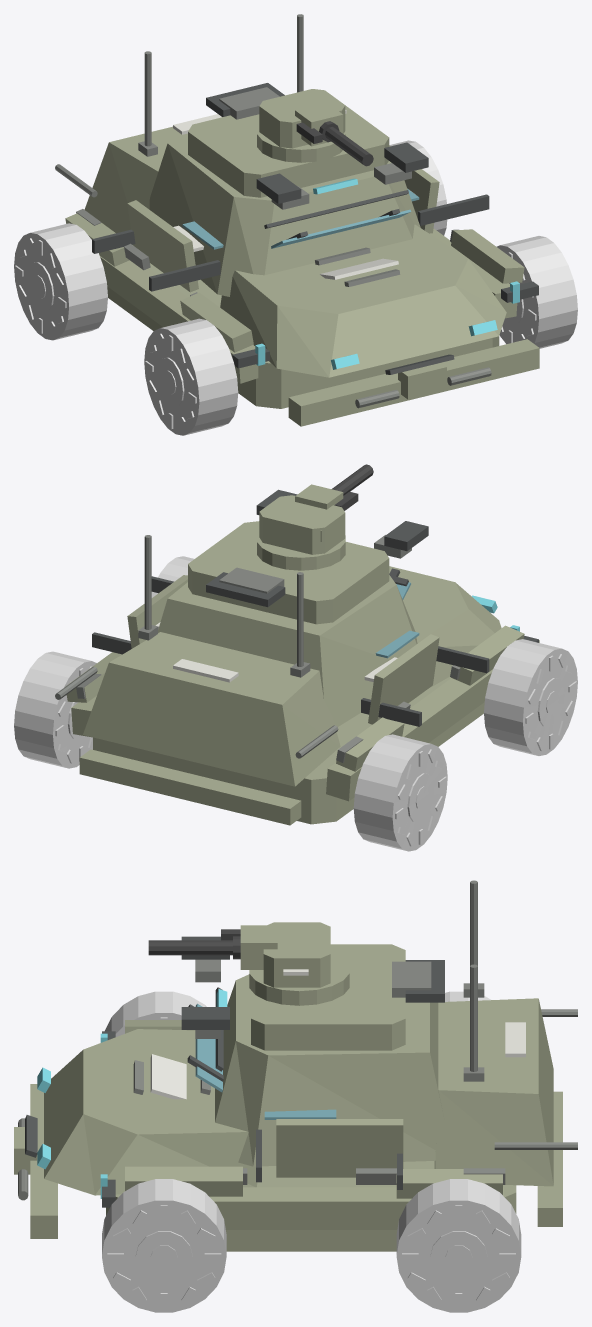
The model's file is scout_rover_articulated.glb.
The picture shows the model from 3 angles, top to bottom: view 1: azimuth 30°, elevation 25°; view 2: azimuth 150°, elevation 25°; view 3: azimuth 270°, elevation 25°; orthographic projection. The views are drawn at different scales.
Visible parts, largest first — view 1: hull, wheel_left, dark_panel_details, wheel_right, bolts_details, turret, emissive, glass, team_body, barrel; view 2: hull, wheel_left, wheel_right, turret, dark_panel_details, bolts_details, team_body, barrel, glass; view 3: hull, wheel_right, turret, bolts_details, dark_panel_details, wheel_left, team_body, barrel, glass, emissive.
Part boxes in pixels (box(x1,y1,x2,y2)): hull: box(65, 105, 539, 426); wheel_left: box(14, 223, 238, 435); dark_panel_details: box(92, 83, 538, 374); wheel_right: box(389, 140, 577, 348); bolts_details: box(55, 14, 491, 408); turret: box(257, 89, 345, 162); emissive: box(255, 178, 519, 369); glass: box(182, 189, 419, 249); team_body: box(173, 114, 415, 279); barrel: box(296, 121, 373, 166); hull: box(65, 521, 539, 825); wheel_left: box(353, 639, 577, 851); wheel_right: box(14, 556, 194, 768); turret: box(257, 484, 345, 570); dark_panel_details: box(92, 489, 538, 726); bolts_details: box(55, 535, 460, 762); team_body: box(155, 622, 397, 682); barrel: box(331, 464, 373, 510); glass: box(375, 582, 419, 658); hull: box(14, 944, 562, 1251); wheel_right: box(102, 1179, 521, 1312); turret: box(240, 922, 349, 1005); bolts_details: box(18, 880, 577, 1200); dark_panel_details: box(25, 936, 444, 1207); wheel_left: box(105, 991, 490, 1036); team_body: box(150, 1022, 525, 1099); barrel: box(148, 929, 240, 959); glass: box(195, 1003, 336, 1119); emissive: box(37, 989, 227, 1198).
Bounding box in the file's own units: 4.33 × 2.71 × 4.88.
